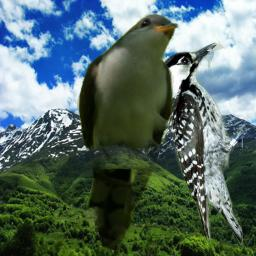Cuckoo: (77, 13, 179, 250)
Woodpecker: (159, 42, 243, 246)
